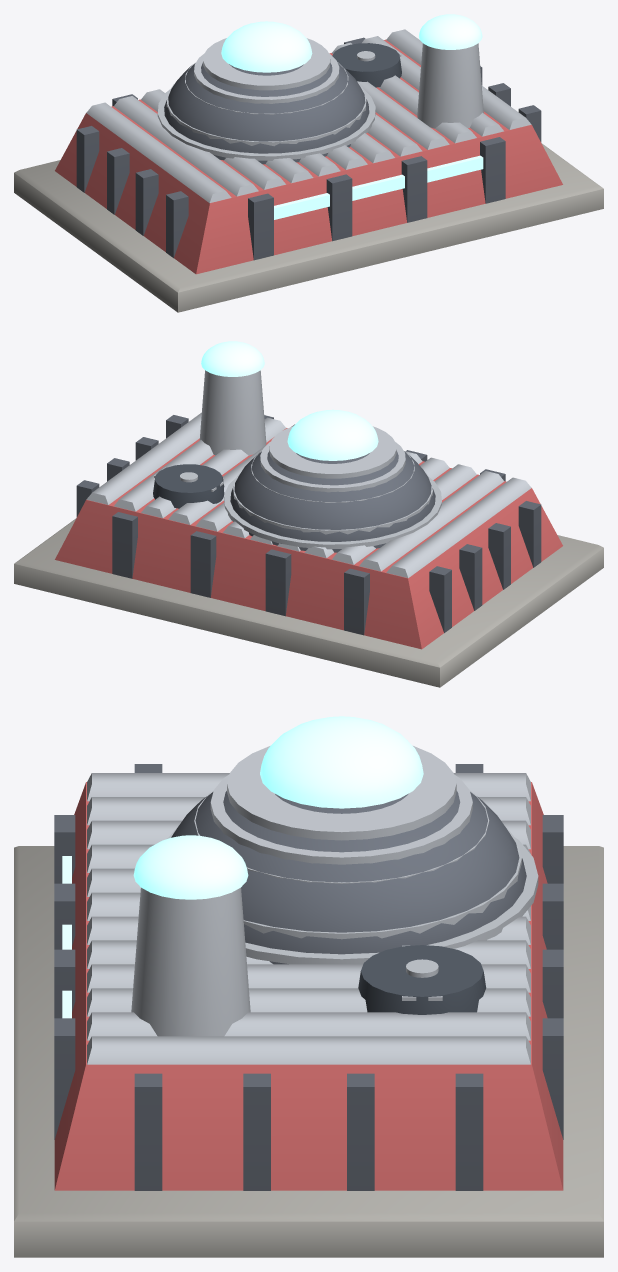
The model's file is napowr.glb.
3 views of the same model, one above another, from view 1: azimuth 30°, elevation 25°; view 2: azimuth 150°, elevation 25°; view 3: azimuth 270°, elevation 25° (orthographic). The views are drawn at different scales.
Visible parts, largest first — view 1: Hull; view 2: Hull; view 3: Hull.
Part boxes in pixels (x1=…): Hull: x1=14, y1=14, x2=603, y2=312; Hull: x1=14, y1=341, x2=603, y2=687; Hull: x1=14, y1=716, x2=603, y2=1257.
Bounding box in the file's own units: 4.86 × 1.96 × 3.24.
